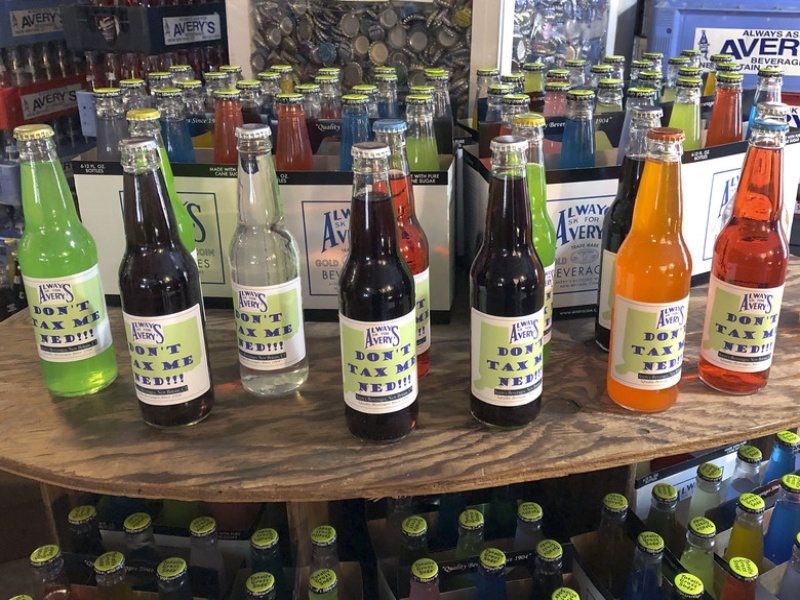Glass bottle: (2, 108, 129, 448), (93, 137, 221, 416), (189, 108, 311, 391), (693, 87, 791, 418), (328, 133, 431, 447), (457, 130, 572, 405), (605, 130, 703, 418)
